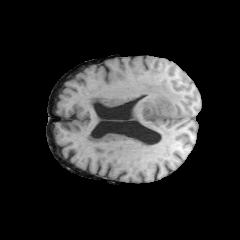glioma: (86, 69, 182, 127)
